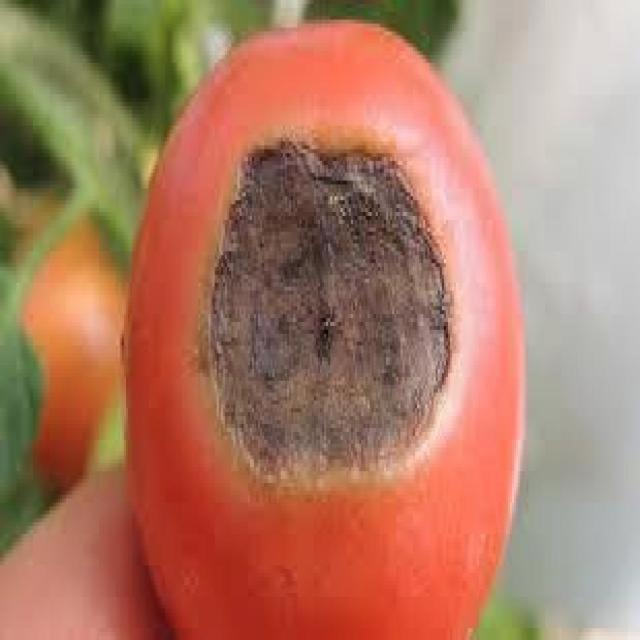Blossom End Rot Fruit: (132, 84, 303, 325)
